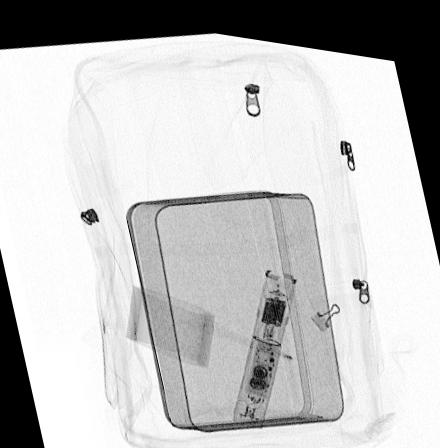Baton: (230, 260, 296, 420)
